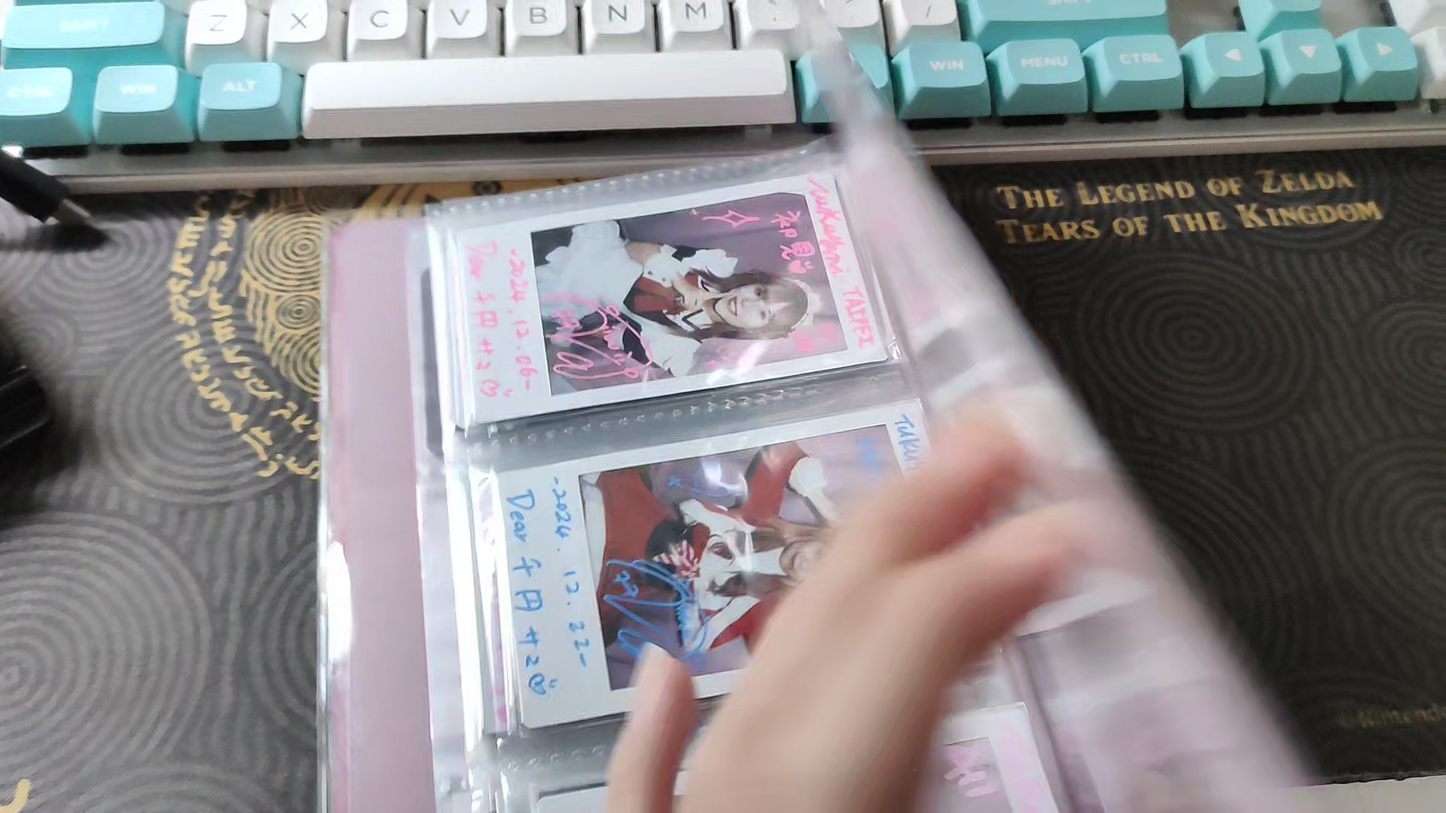Photo_book: (318, 34, 1306, 813)
